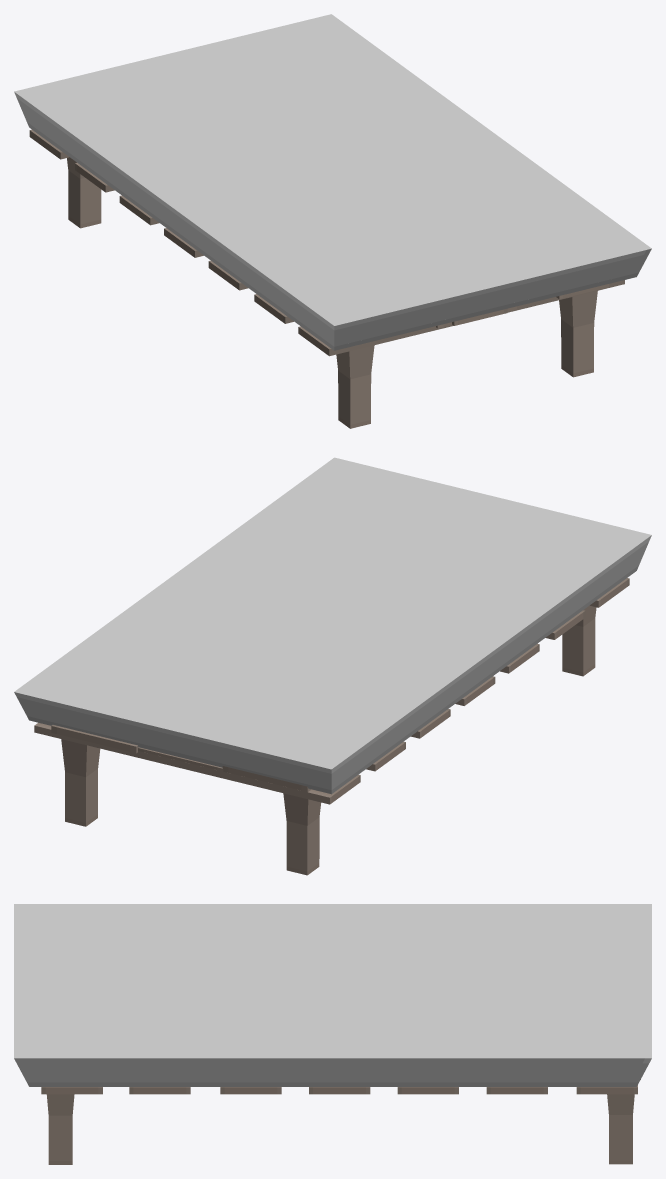
File: plankbed.glb
3 views of the same model, one above another, from view 1: azimuth 30°, elevation 25°; view 2: azimuth 150°, elevation 25°; view 3: azimuth 270°, elevation 25° (orthographic).
Parts seen in each view (by area): view 1: _MeshInstance3D_16; view 2: _MeshInstance3D_16; view 3: _MeshInstance3D_16.
Boxes of the visible parts, x1,y1,x2,y2 form: _MeshInstance3D_16: (14,14,651,428); _MeshInstance3D_16: (14,457,651,875); _MeshInstance3D_16: (14,904,651,1164).
Bounding box in the file's own units: 1.24 × 0.4729 × 2.17.
